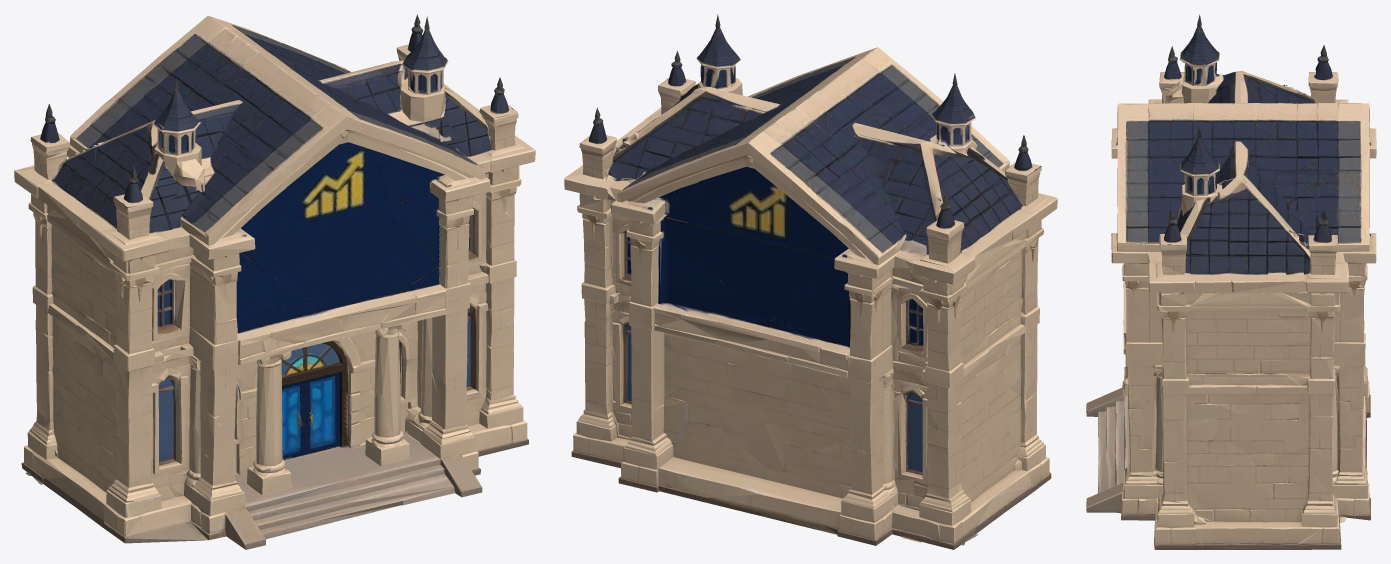
Rendered from academy.glb.
3 renders of one model, left to right at view 1: azimuth 30°, elevation 25°; view 2: azimuth 150°, elevation 25°; view 3: azimuth 270°, elevation 25°, orthographic. The views are drawn at different scales.
Bounding box in the file's own units: 12.08 × 12 × 8.08.
Materials: 1 (1 with a texture image).
